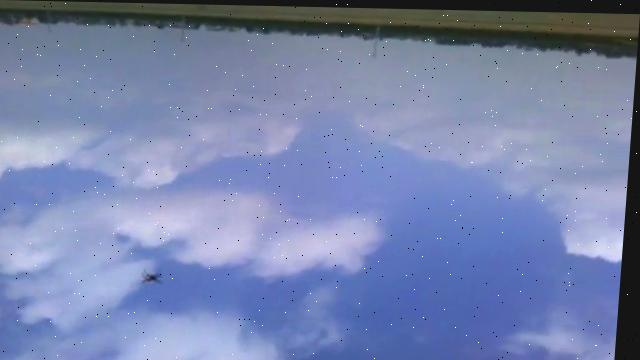drone: (140, 267, 170, 287)
